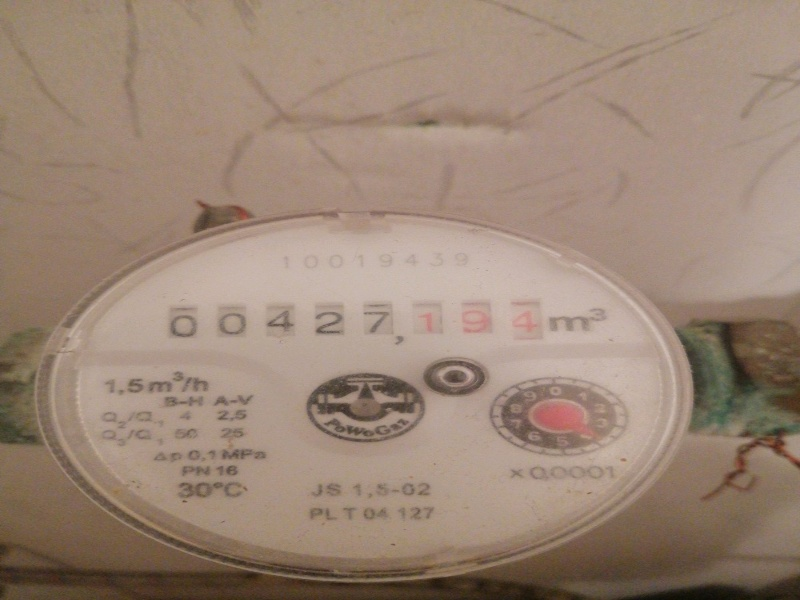meter: (155, 295, 546, 347)
